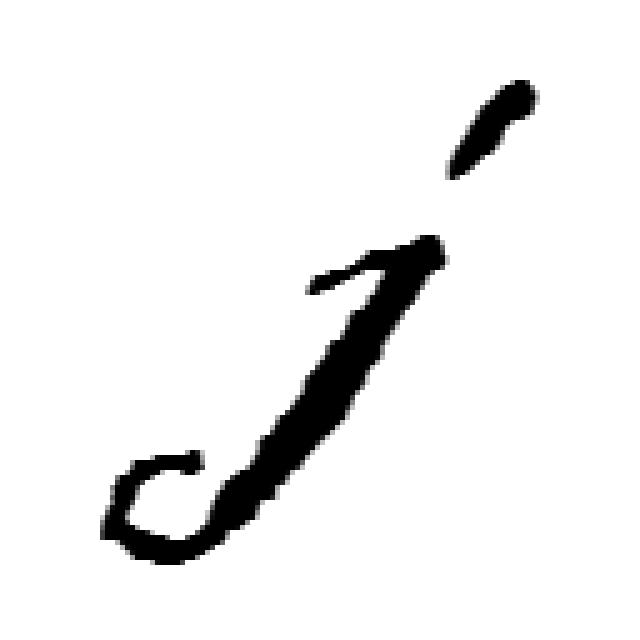J: (62, 83, 554, 567)
